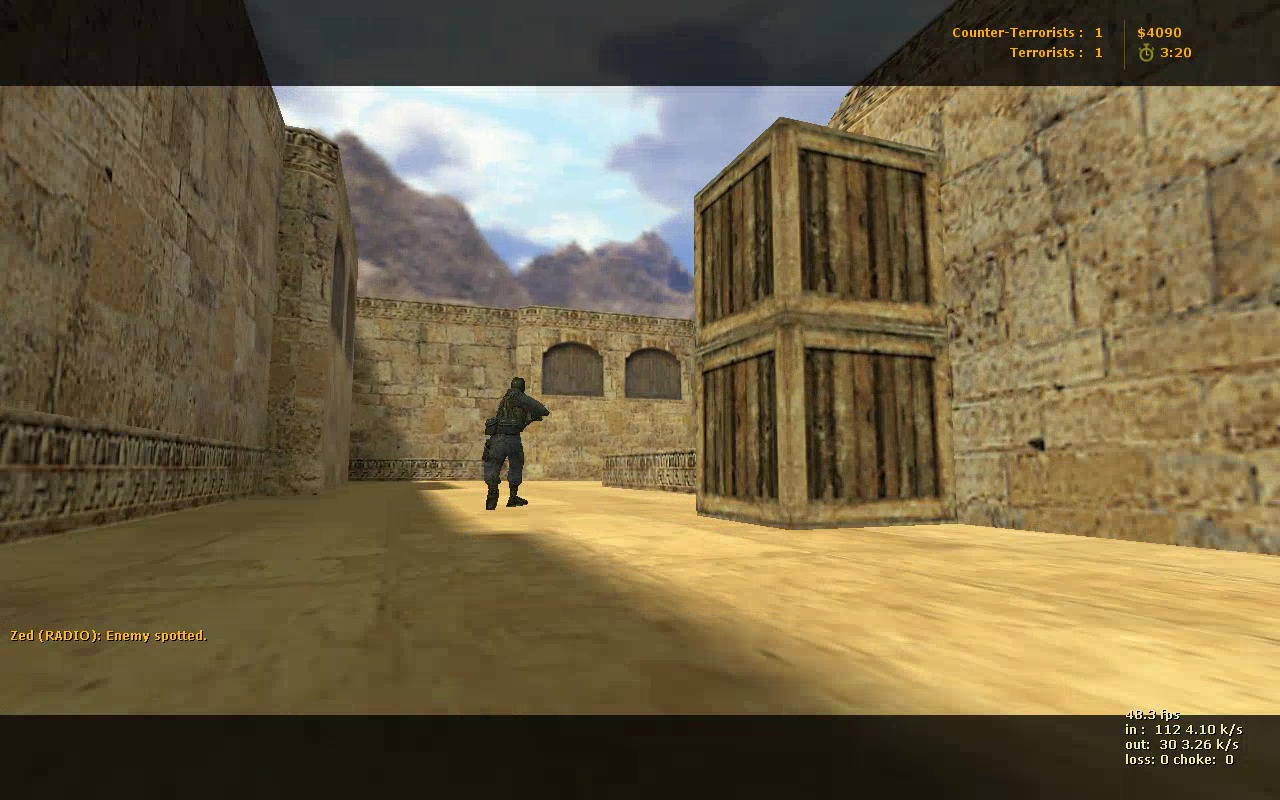ct: (483, 376, 550, 510)
